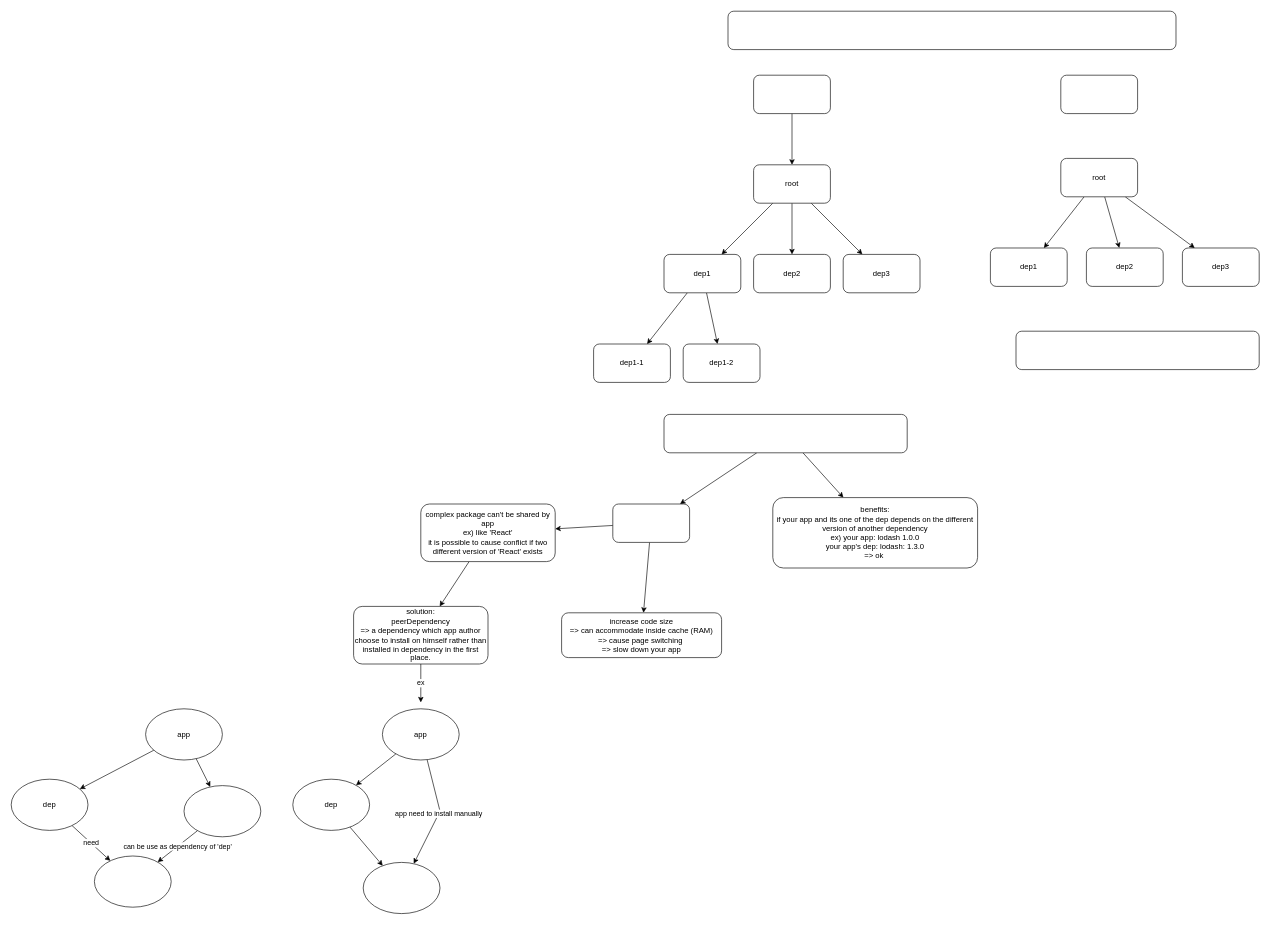
The diagram is 1270 pixels wide and 925 high, and some of its shapes have lost their labels. Each missing label, with the box of its shape:
drawback: (612, 503, 690, 542)
it is totally ok to install different version of the same package: (663, 414, 907, 453)
npm: (753, 75, 830, 114)
npm dependency management schema is different from other dependency management: (727, 11, 1176, 50)
only one version of any particular package can be installed at a time: (1015, 331, 1259, 370)
other DM tools (flat model): (1060, 75, 1138, 114)
peerDependency: (363, 862, 440, 914)
react 1.0.0 => update to 1.2.0: (183, 785, 261, 837)
react 1.2.0: (94, 855, 171, 907)
